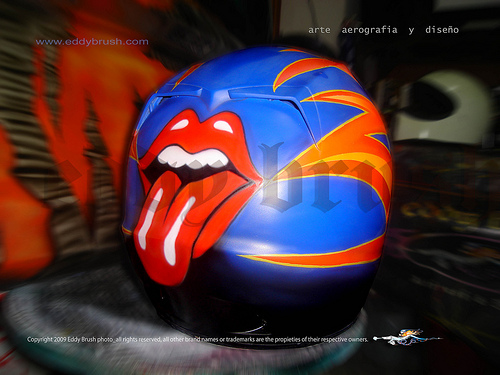helmet: (116, 44, 411, 342)
